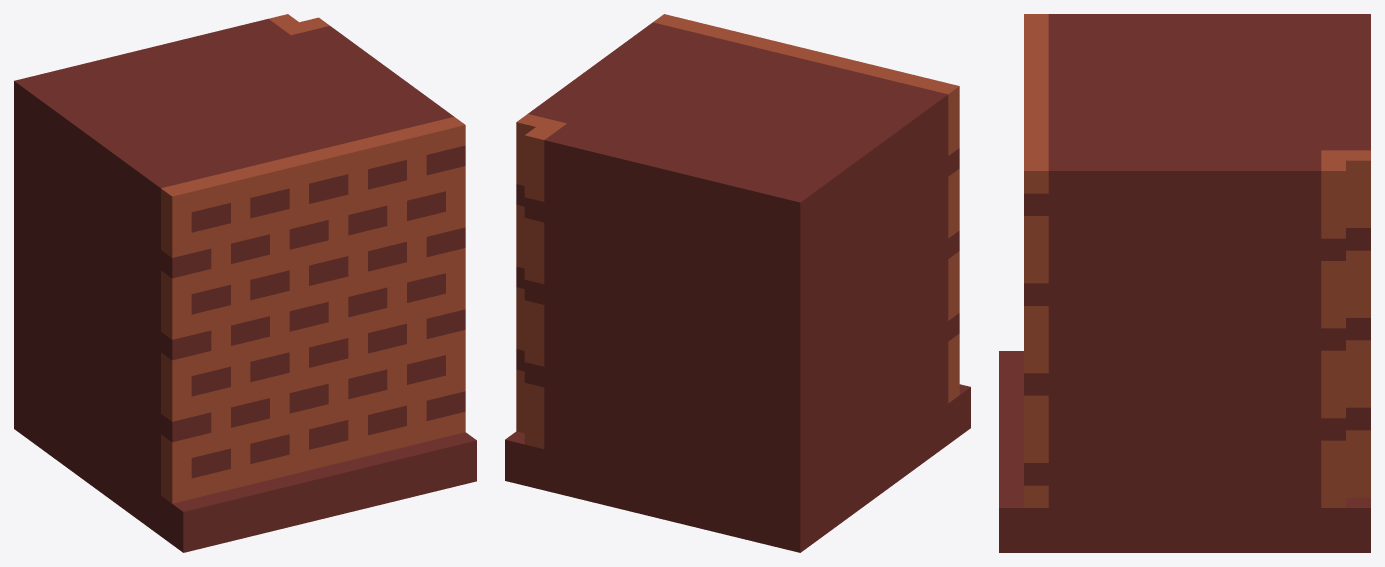
File: dungeon_b_b_outer_wall_segment_d_flipped.obj
3 views of the same model, side by side, from view 1: azimuth 30°, elevation 25°; view 2: azimuth 150°, elevation 25°; view 3: azimuth 270°, elevation 25° (orthographic). The views are drawn at different scales.
Bounding box in the file's own units: 1.5 × 1.7 × 1.5.
1 material, 1 textured.
